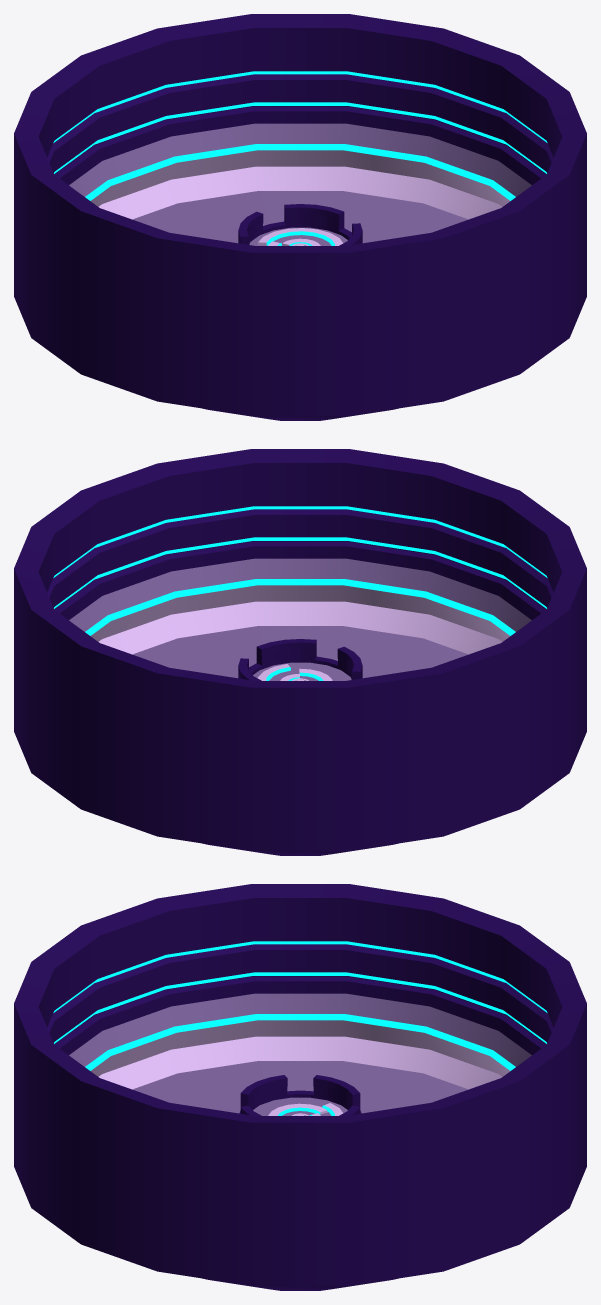
The model's file is Arena.fbx.
3 renders of one model, top to bottom at view 1: azimuth 30°, elevation 25°; view 2: azimuth 150°, elevation 25°; view 3: azimuth 270°, elevation 25°, orthographic.
Parts seen in each view (by area): view 1: Arena; view 2: Arena; view 3: Arena.
Boxes of the visible parts, x1,y1,x2,y2 form: Arena: (14, 14, 586, 420); Arena: (14, 449, 586, 855); Arena: (14, 884, 586, 1290).
Size of the model in its own units: 366 by 184 by 372.
